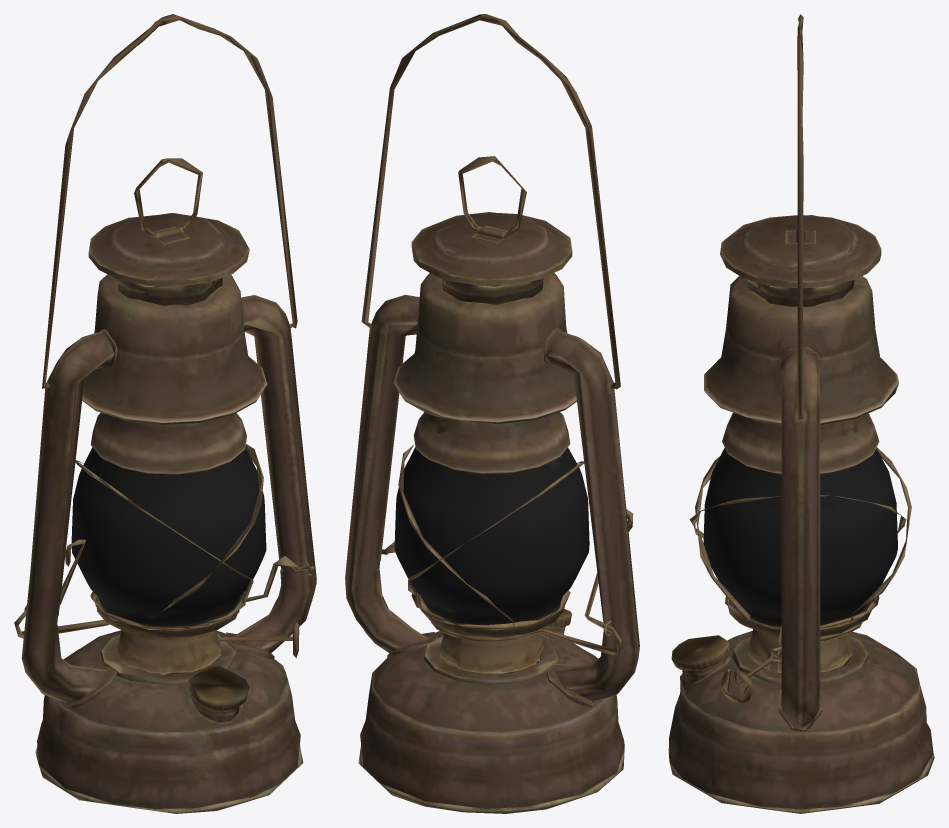
File: Lantern_01.glb
The picture shows the model from 3 angles, left to right: view 1: azimuth 30°, elevation 25°; view 2: azimuth 150°, elevation 25°; view 3: azimuth 270°, elevation 25°; orthographic projection.
Parts seen in each view (by area): view 1: Lantern_01, Lantern_01_glass; view 2: Lantern_01, Lantern_01_glass; view 3: Lantern_01, Lantern_01_glass.
Boxes of the visible parts, box(x1,y1,x2,y2) form: Lantern_01: box(14, 14, 316, 813); Lantern_01_glass: box(71, 447, 266, 626); Lantern_01: box(345, 14, 639, 813); Lantern_01_glass: box(394, 447, 589, 624); Lantern_01: box(668, 14, 934, 813); Lantern_01_glass: box(703, 448, 897, 626).
Size of the model in its own units: 0.1219 by 0.2938 by 0.0958.
Materials: 2 (2 with a texture image).
